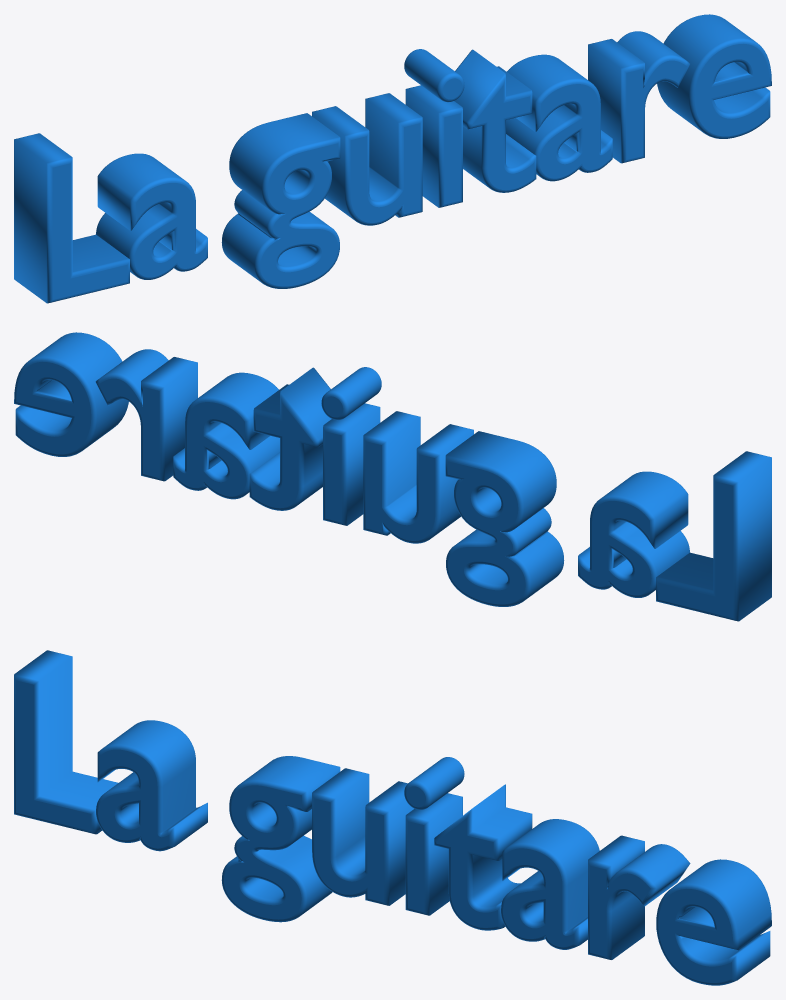
3 renders of one model, top to bottom at view 1: azimuth 30°, elevation 25°; view 2: azimuth 150°, elevation 25°; view 3: azimuth 330°, elevation 25°, orthographic.
Visible parts, largest first — view 1: Text; view 2: Text; view 3: Text.
Boxes of the visible parts, box(x1,y1,x2,y2) form: Text: box(14, 14, 771, 303); Text: box(14, 332, 771, 621); Text: box(14, 650, 771, 985).
Size of the model in its own units: 3.91 by 0.952 by 0.34.
